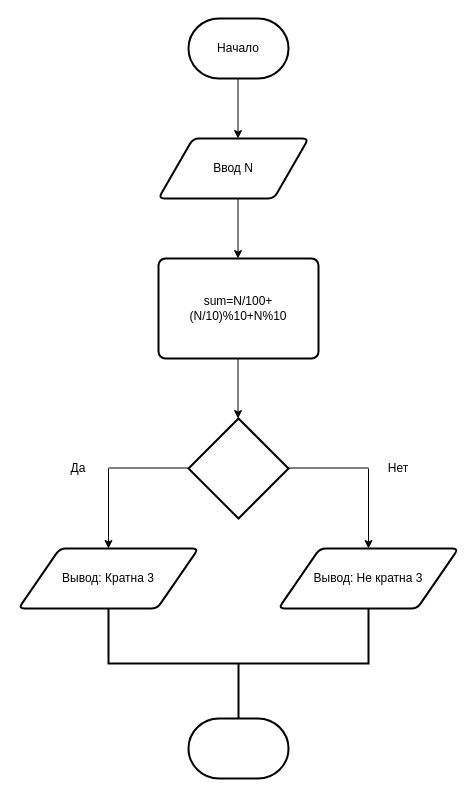
The diagram is 476 pixels wide and 796 high, and some of its shapes have lost their labels. Here are the shapes that lost their labels. From the top down, the centre of each, then its label:
the point at 238,468: sum%3==0?
the point at 238,748: Конец
